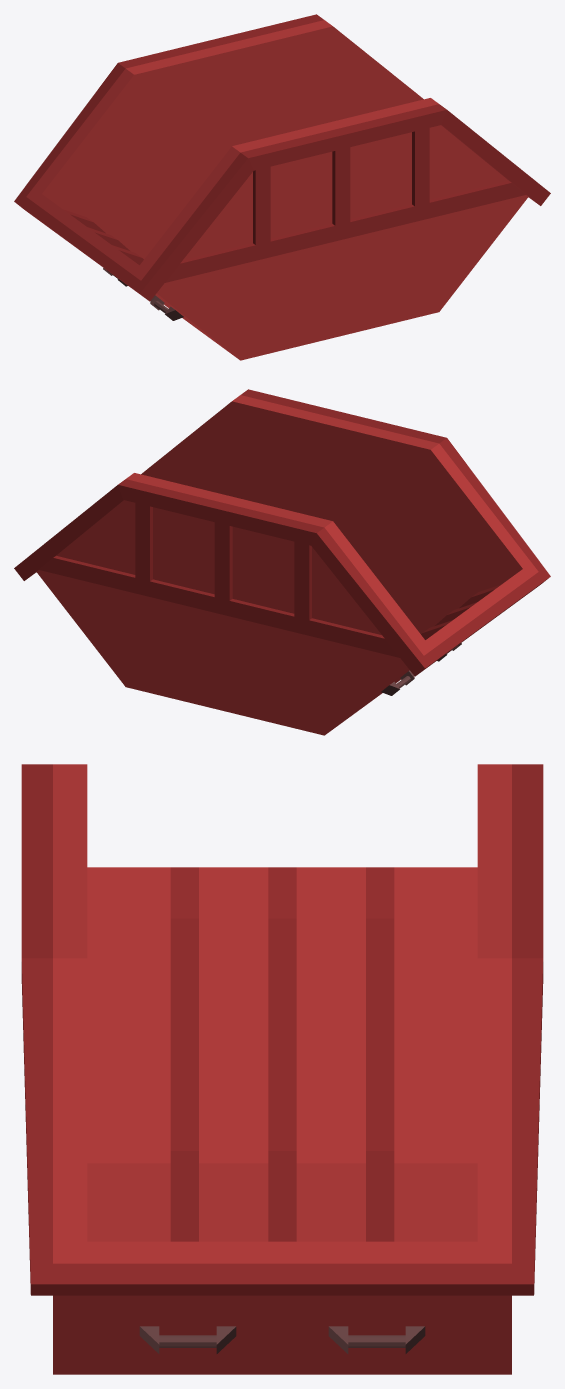
The model's file is Dumpster.fbx.
3 renders of one model, top to bottom at view 1: azimuth 30°, elevation 25°; view 2: azimuth 150°, elevation 25°; view 3: azimuth 270°, elevation 25°, orthographic. The views are drawn at different scales.
Visible parts, largest first — view 1: isl_Dumpsters_01_DEF.obj; view 2: isl_Dumpsters_01_DEF.obj; view 3: isl_Dumpsters_01_DEF.obj.
Boxes of the visible parts, left/top/right/bottom form: isl_Dumpsters_01_DEF.obj: left=14, top=14, right=550, bottom=360; isl_Dumpsters_01_DEF.obj: left=14, top=389, right=550, bottom=735; isl_Dumpsters_01_DEF.obj: left=21, top=764, right=543, bottom=1374.
Size of the model in its own units: 414 by 200 by 227.
